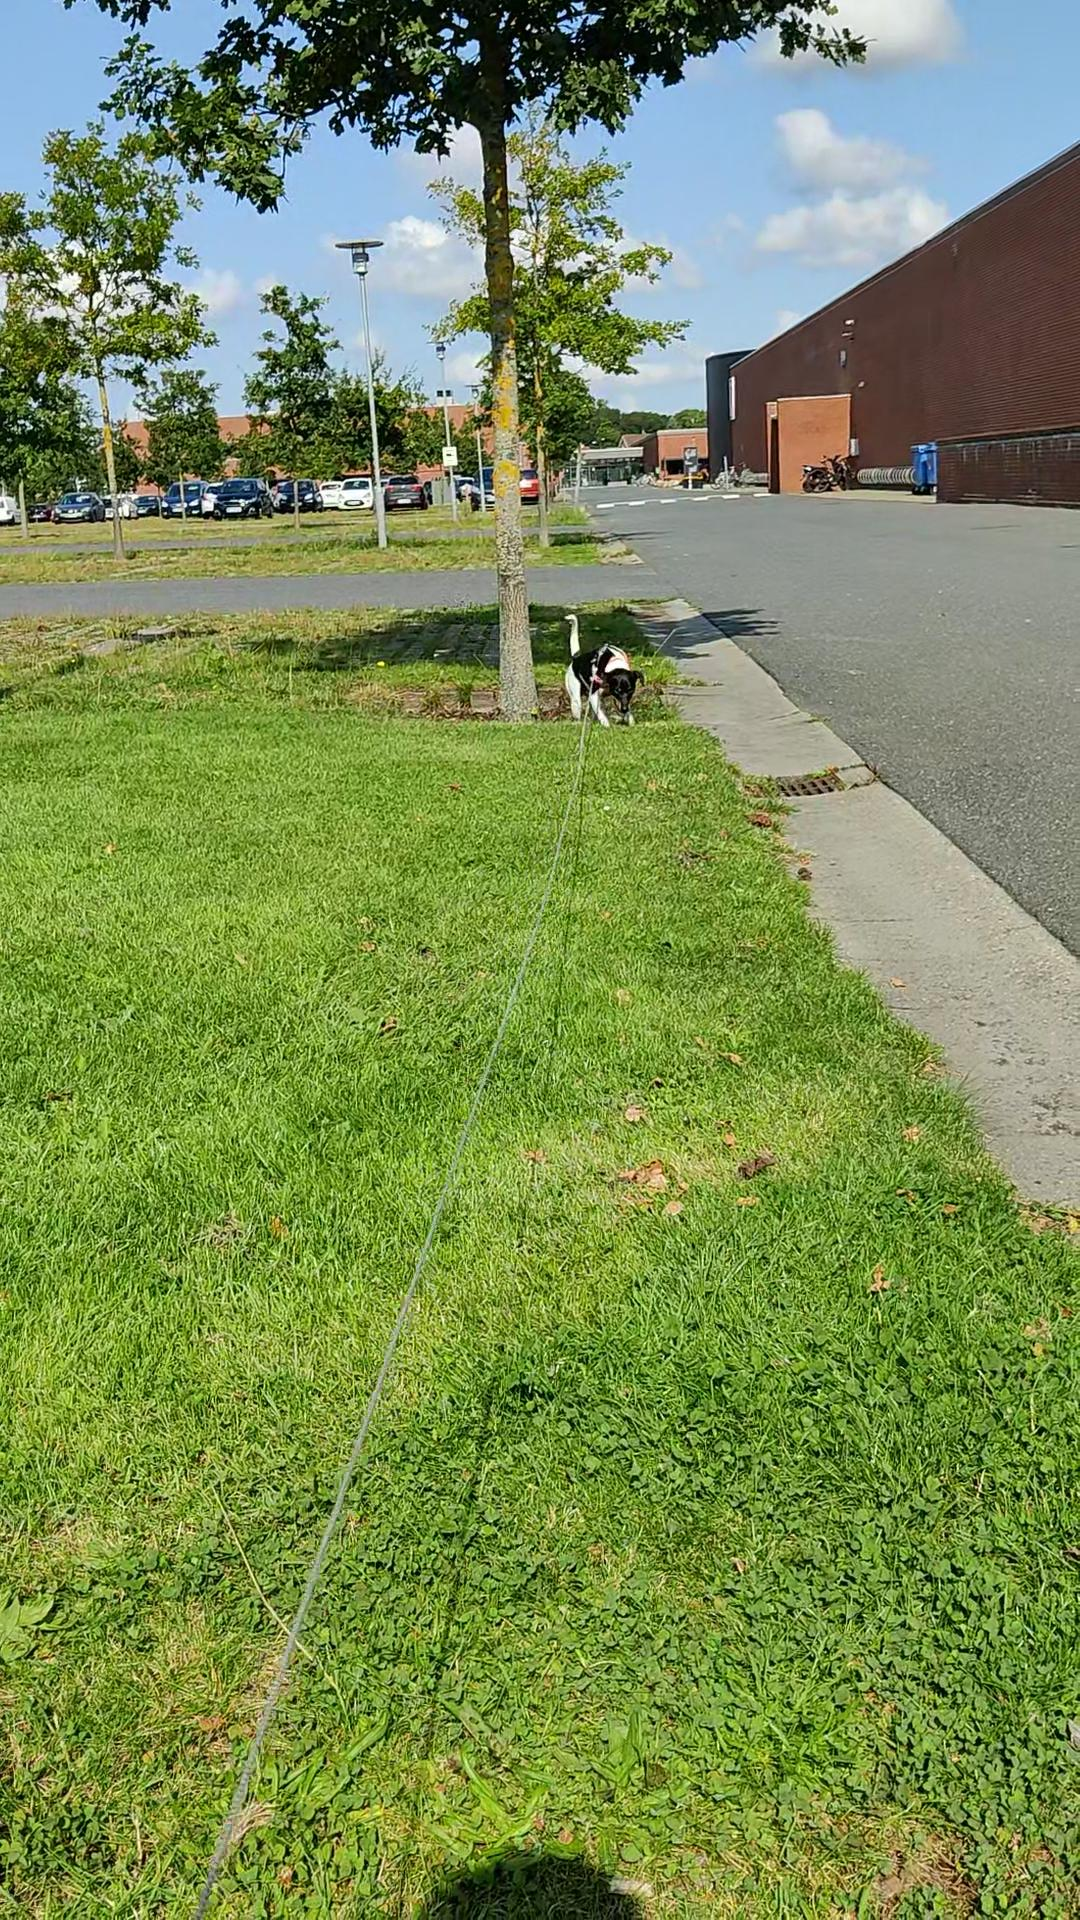Dog: (556, 607, 647, 731)
